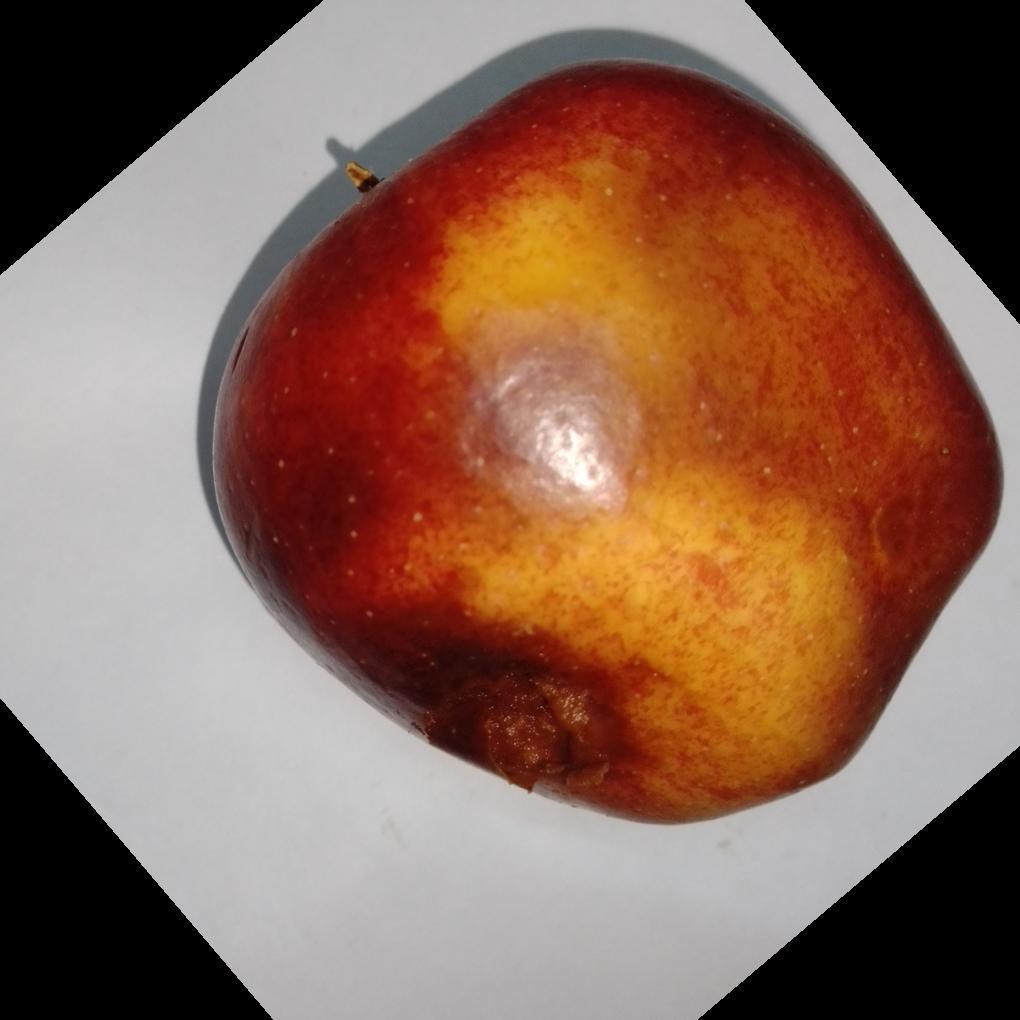FreshOrange: (201, 60, 1000, 829)
